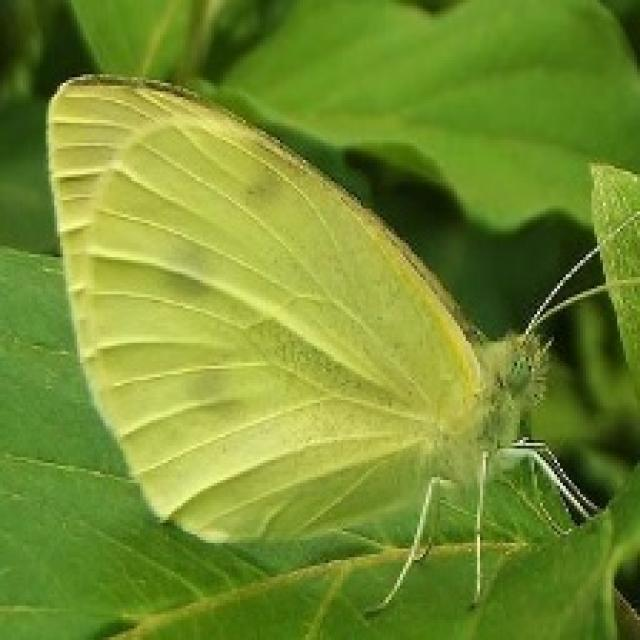butterfly: (43, 69, 637, 617)
